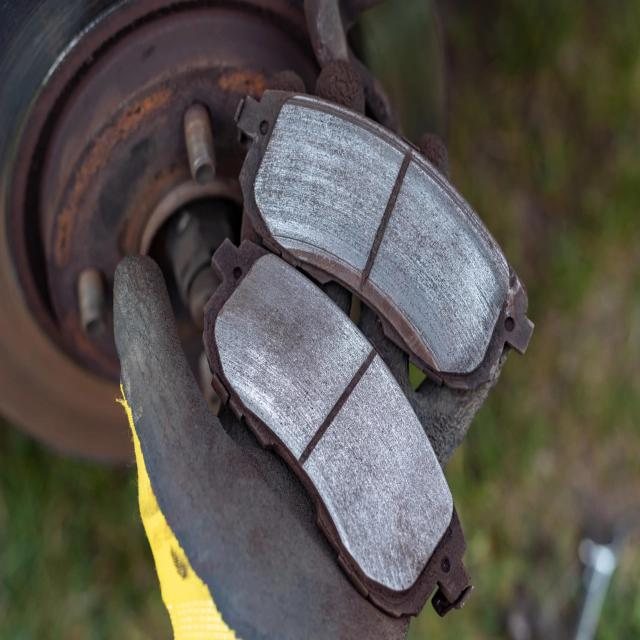brake_pad: (174, 232, 487, 638), (225, 67, 556, 424)
